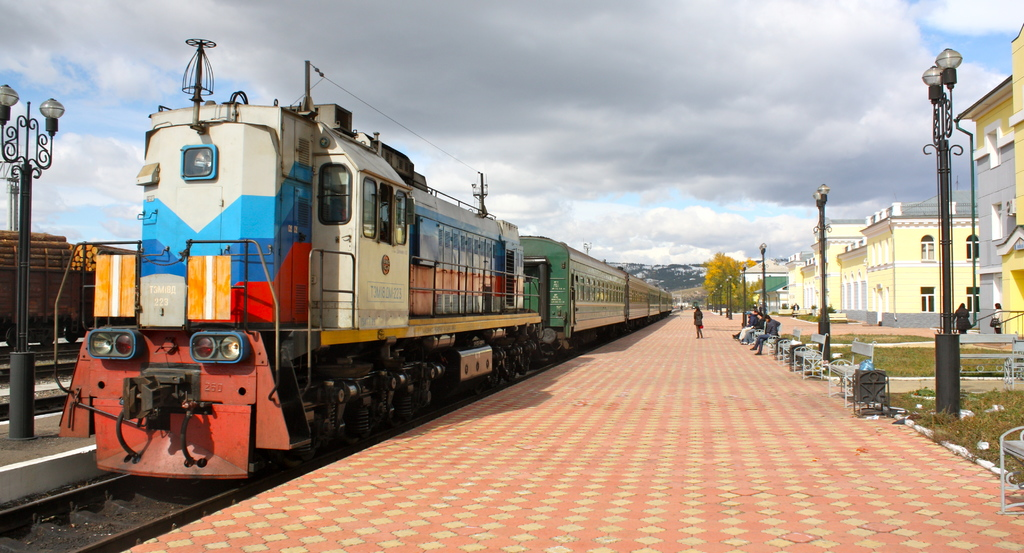train: (60, 62, 668, 480)
